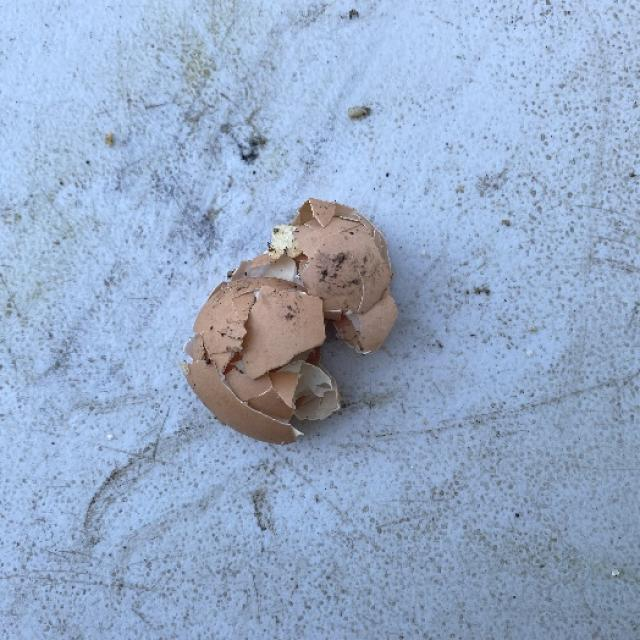wet: (185, 362, 297, 444), (350, 293, 399, 352), (230, 286, 256, 318)
